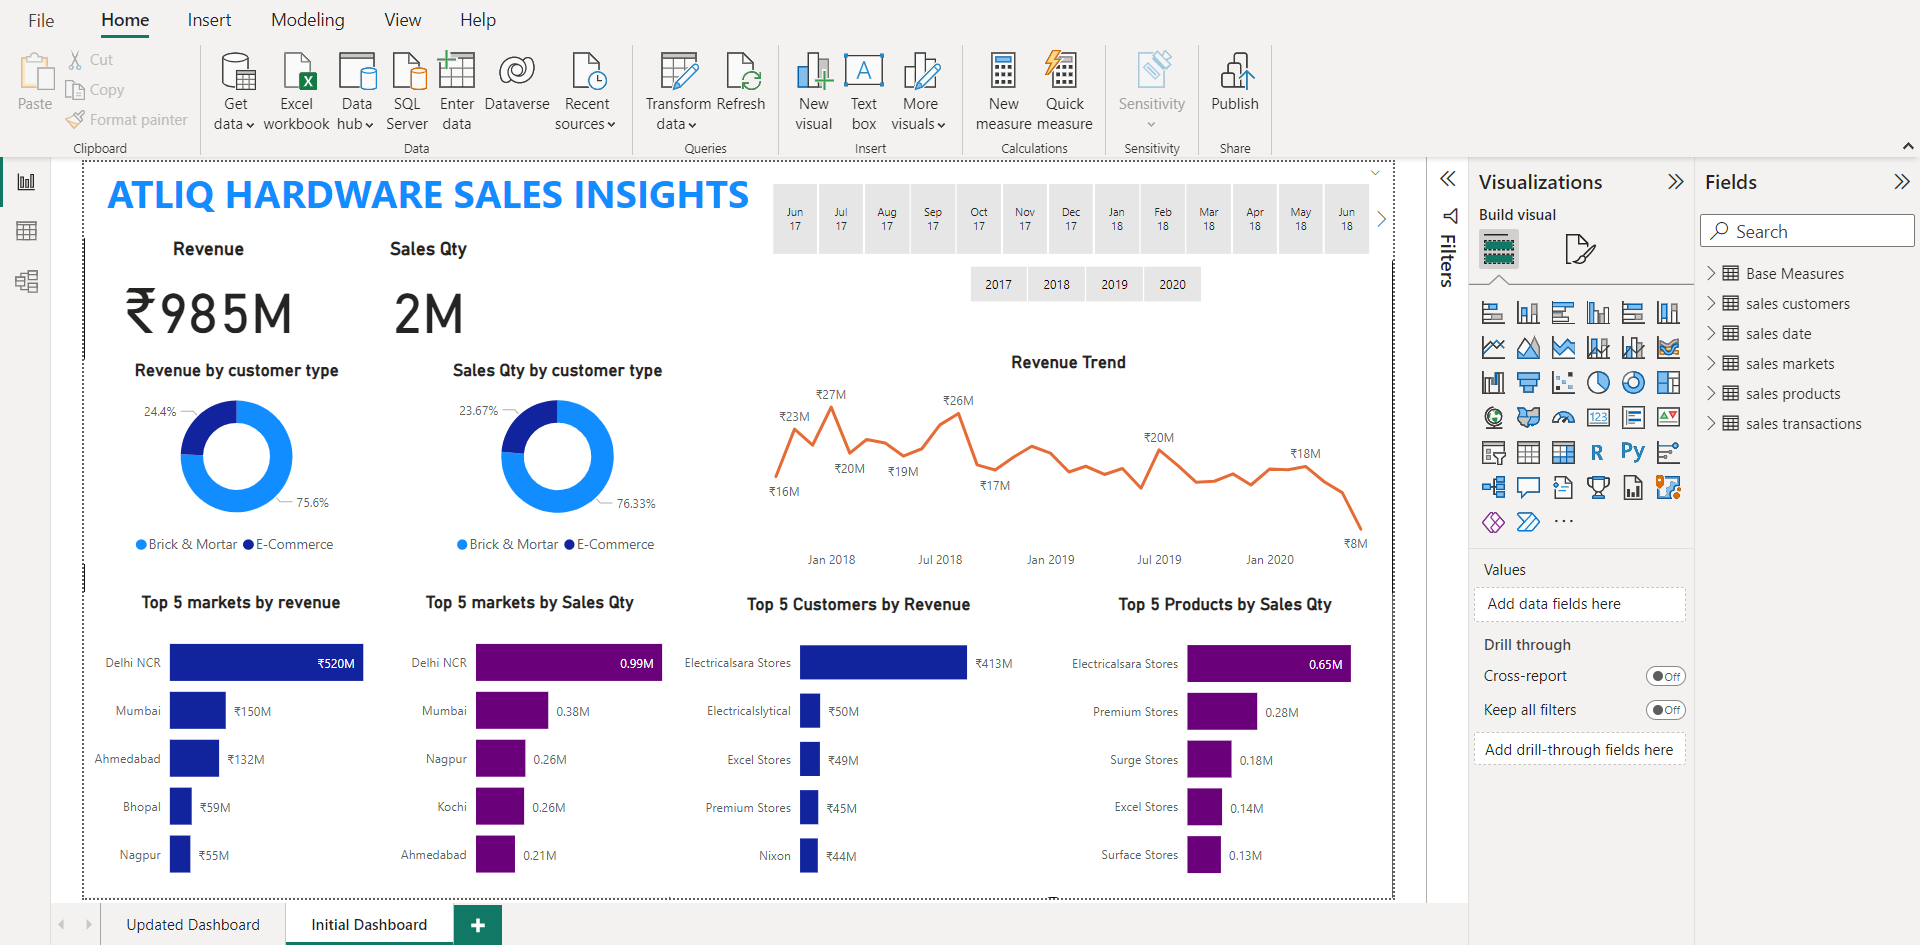

This screenshot's page, from the dashboard's own definition file:
{"tool":"powerbi","page":{"name":"Basic Dashboard","canvas":[1280,720],"ordinal":1},"visuals":[{"type":"card","title":"Revenue","fields":{"Values":["Base Masures.Revenue"]},"box":[15.1,74.2,214.2,112.6],"z":0},{"type":"card","title":"Sales Qty","fields":{"Values":["Base Masures.Sales Qty"]},"box":[251.3,74.2,170.3,112.6],"z":1000},{"type":"barChart","title":"Top 5 markets by revenue","fields":{"Y":["Base Masures.Revenue"],"Category":["sales markets.markets_name"]},"box":[0,421,307,299],"z":2000},{"type":"barChart","title":"Top 5 markets by Sales Qty","fields":{"Y":["Base Masures.Sales Qty"],"Category":["sales markets.markets_name"]},"box":[299,421,273,299],"z":3000},{"type":"slicer","fields":{"Values":["sales date.cy_date"]},"box":[647.5,0,632.5,96.2],"z":4000},{"type":"slicer","fields":{"Values":["sales date.year"]},"box":[841.2,95,275,47.5],"z":5000},{"type":"barChart","title":"Top 5 Customers by Revenue","fields":{"Y":["Base Masures.Revenue"],"Category":["sales customers.custmer_name"]},"box":[573.8,421.2,368.8,298.8],"z":6000},{"type":"barChart","title":"Top 5 Products by Sales Qty","fields":{"Y":["Base Measures.Sales Qty"],"Category":["sales customers.custmer_name"]},"box":[952.5,421.2,327.5,298.8],"z":7000},{"type":"lineChart","title":"Revenue Trend","fields":{"Y":["Base Masures.Revenue"],"Category":["sales date.cy_date"]},"box":[647.5,186.2,630,221.2],"z":8000},{"type":"donutChart","title":"Revenue by customer type","fields":{"Category":["sales customers.customer_type"],"Y":["Base Masures.Revenue"]},"box":[0,193.8,298.8,200],"z":9000},{"type":"donutChart","title":"Sales Qty by customer type","fields":{"Y":["Base Measures.Sales Qty"],"Category":["sales customers.customer_type"]},"box":[298.8,193.8,330,200],"z":10000},{"type":"textbox","box":[0,0,673,74.2],"z":11000}]}

Visuals, with their boxes on the page's 1280x720 design canvas (x1, y1, x2, y2). These are canvas units, not pixel positions in the 1920x945 screenshot, which may show the page scaled, cropped or inside an application window:
"Revenue" card: bbox=(15, 74, 229, 187)
"Sales Qty" card: bbox=(251, 74, 422, 187)
"Top 5 markets by revenue" barChart: bbox=(0, 421, 307, 720)
"Top 5 markets by Sales Qty" barChart: bbox=(299, 421, 572, 720)
slicer - sales date.cy_date: bbox=(648, 0, 1280, 96)
slicer - sales date.year: bbox=(841, 95, 1116, 142)
"Top 5 Customers by Revenue" barChart: bbox=(574, 421, 943, 720)
"Top 5 Products by Sales Qty" barChart: bbox=(952, 421, 1280, 720)
"Revenue Trend" lineChart: bbox=(648, 186, 1278, 407)
"Revenue by customer type" donutChart: bbox=(0, 194, 299, 394)
"Sales Qty by customer type" donutChart: bbox=(299, 194, 629, 394)
textbox: bbox=(0, 0, 673, 74)
